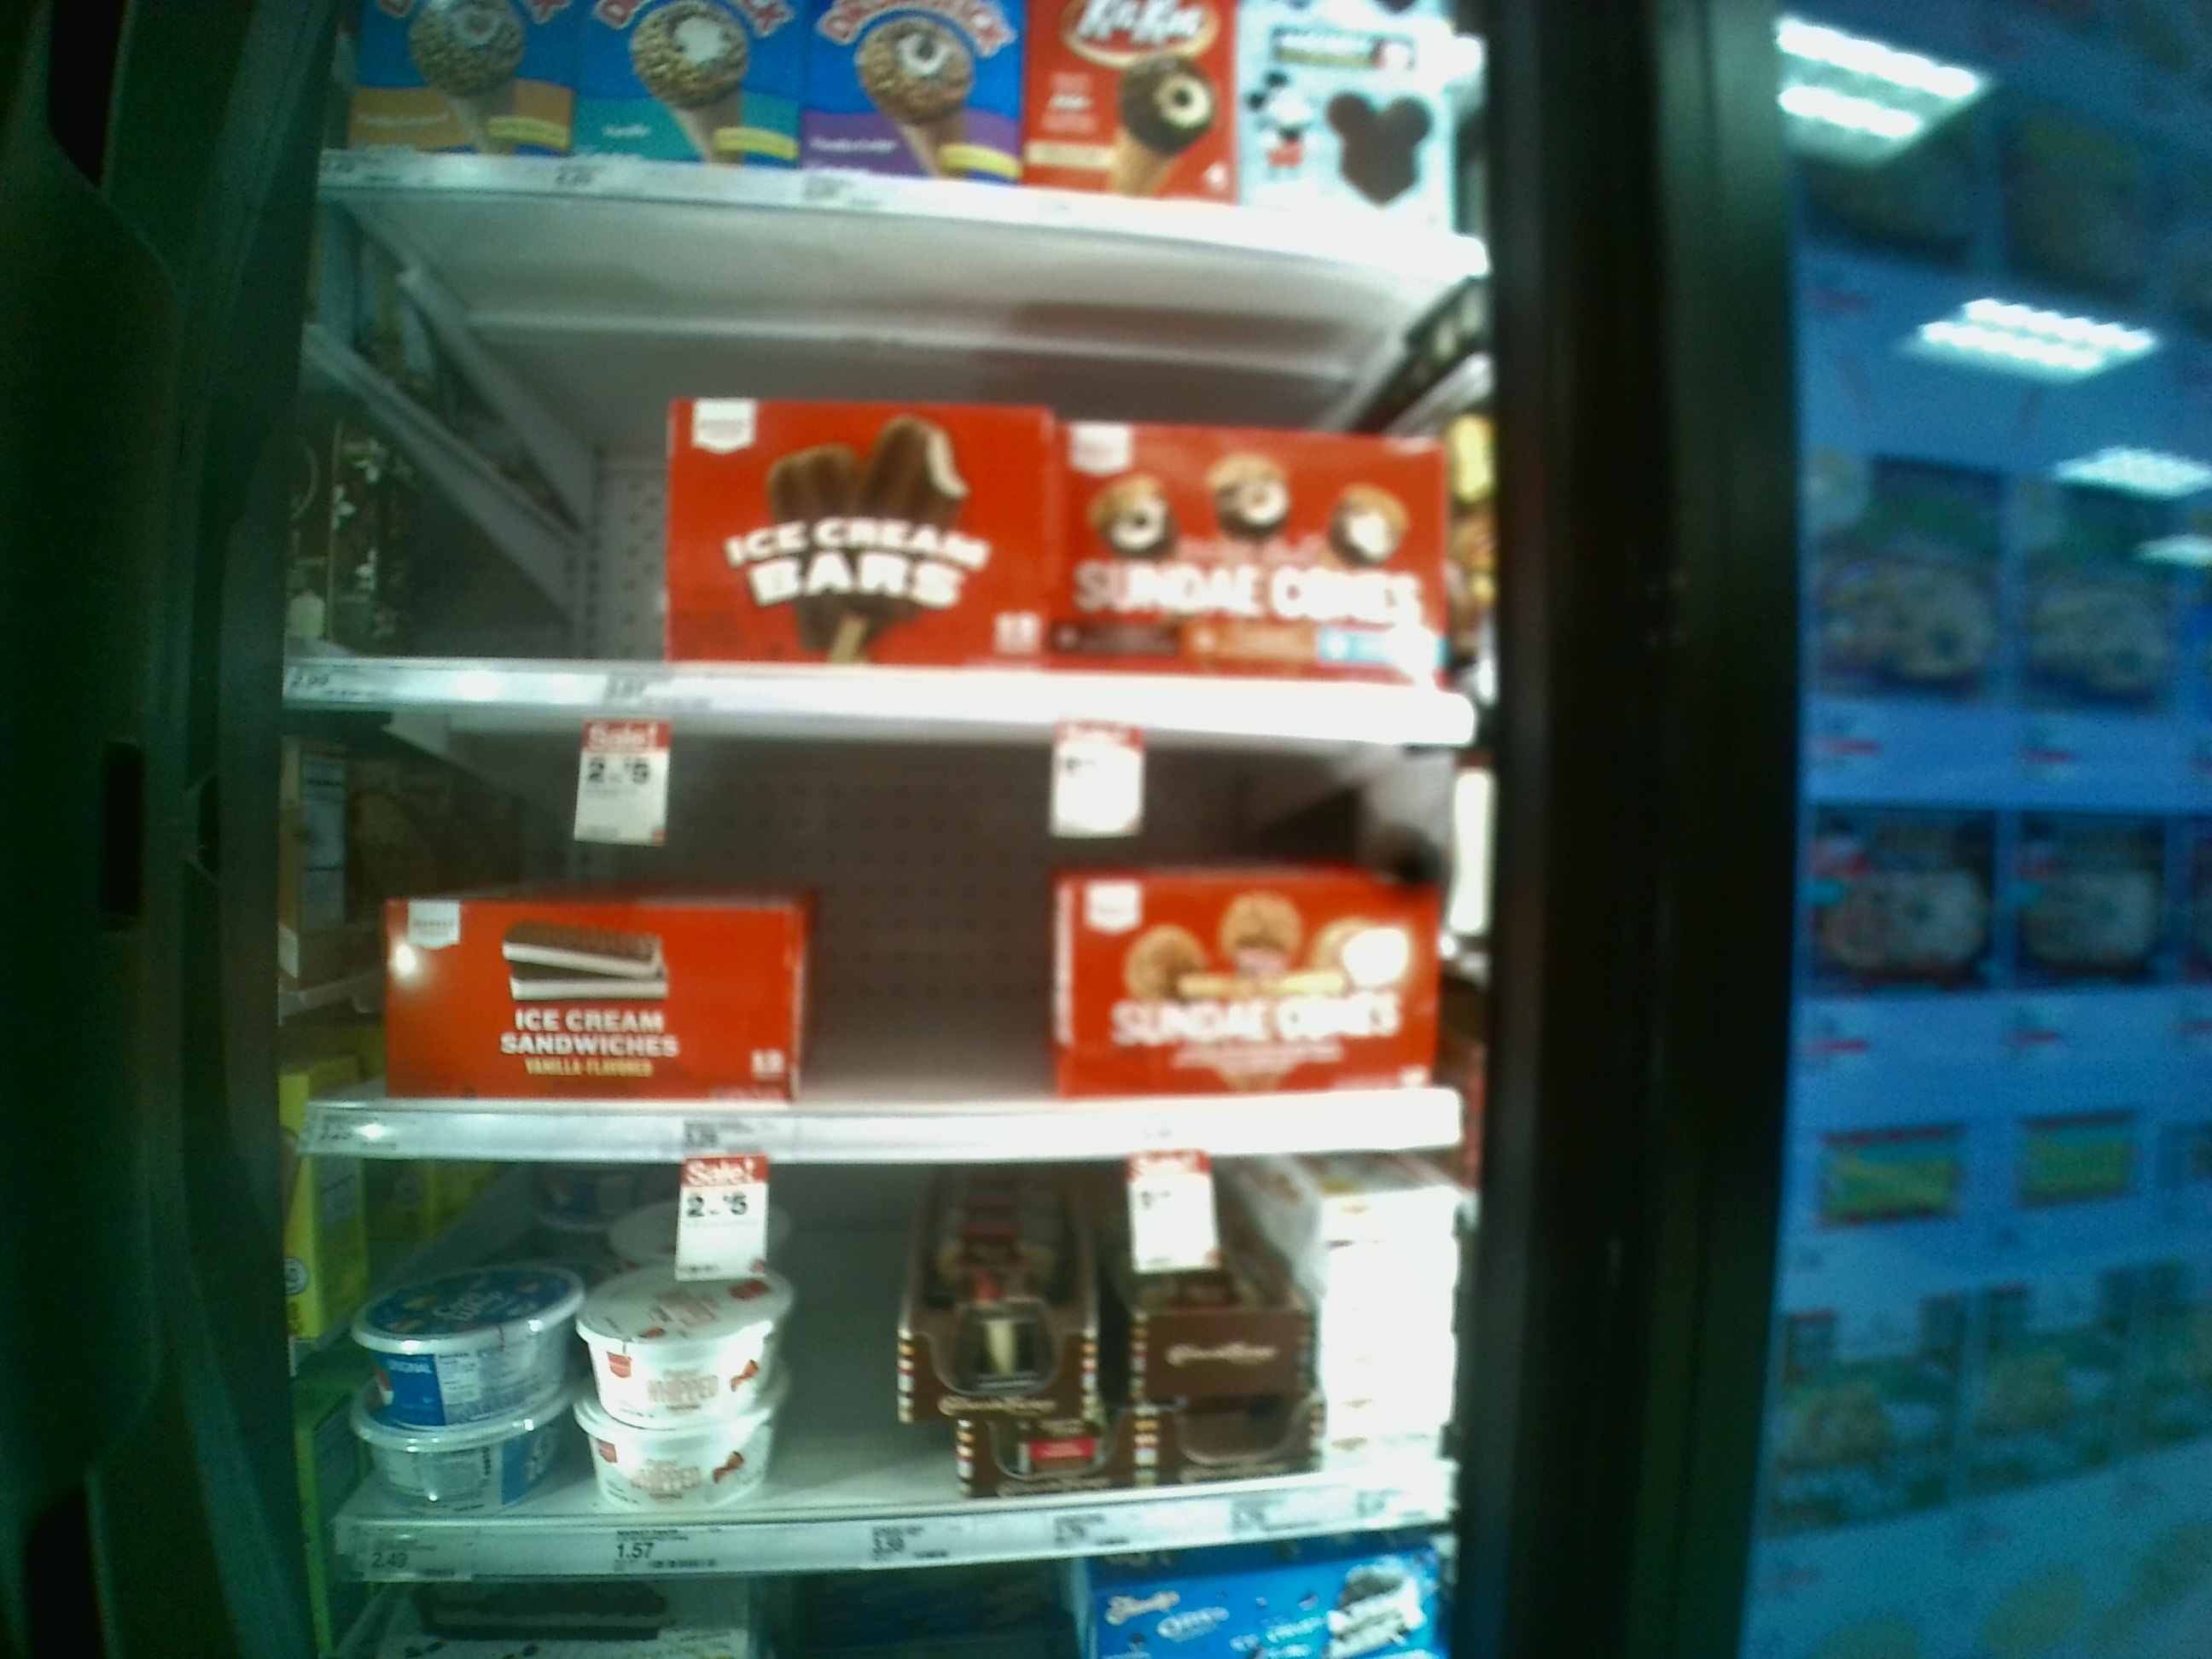shelf: (265, 192, 1486, 751), (261, 716, 1480, 1159), (307, 1155, 1491, 1588)
